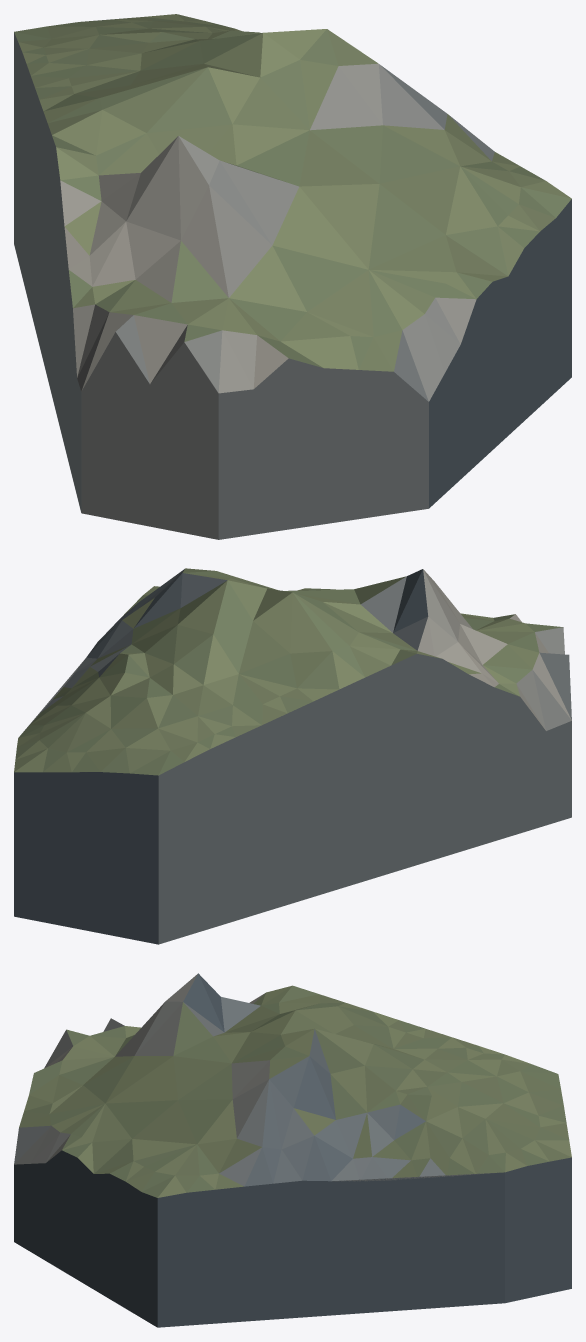
File: cliff_sections_10e_eastern_plateau.glb
3 views of the same model, one above another, from view 1: azimuth 30°, elevation 25°; view 2: azimuth 150°, elevation 25°; view 3: azimuth 270°, elevation 25° (orthographic). The views are drawn at different scales.
Parts seen in each view (by area): view 1: cliff_eastern_plateau; view 2: cliff_eastern_plateau; view 3: cliff_eastern_plateau.
Part boxes in pixels (x1=…): cliff_eastern_plateau: x1=14, y1=14, x2=571, y2=539; cliff_eastern_plateau: x1=14, y1=568, x2=571, y2=944; cliff_eastern_plateau: x1=14, y1=973, x2=571, y2=1327.
Size of the model in its own units: 130 by 77 by 171.
